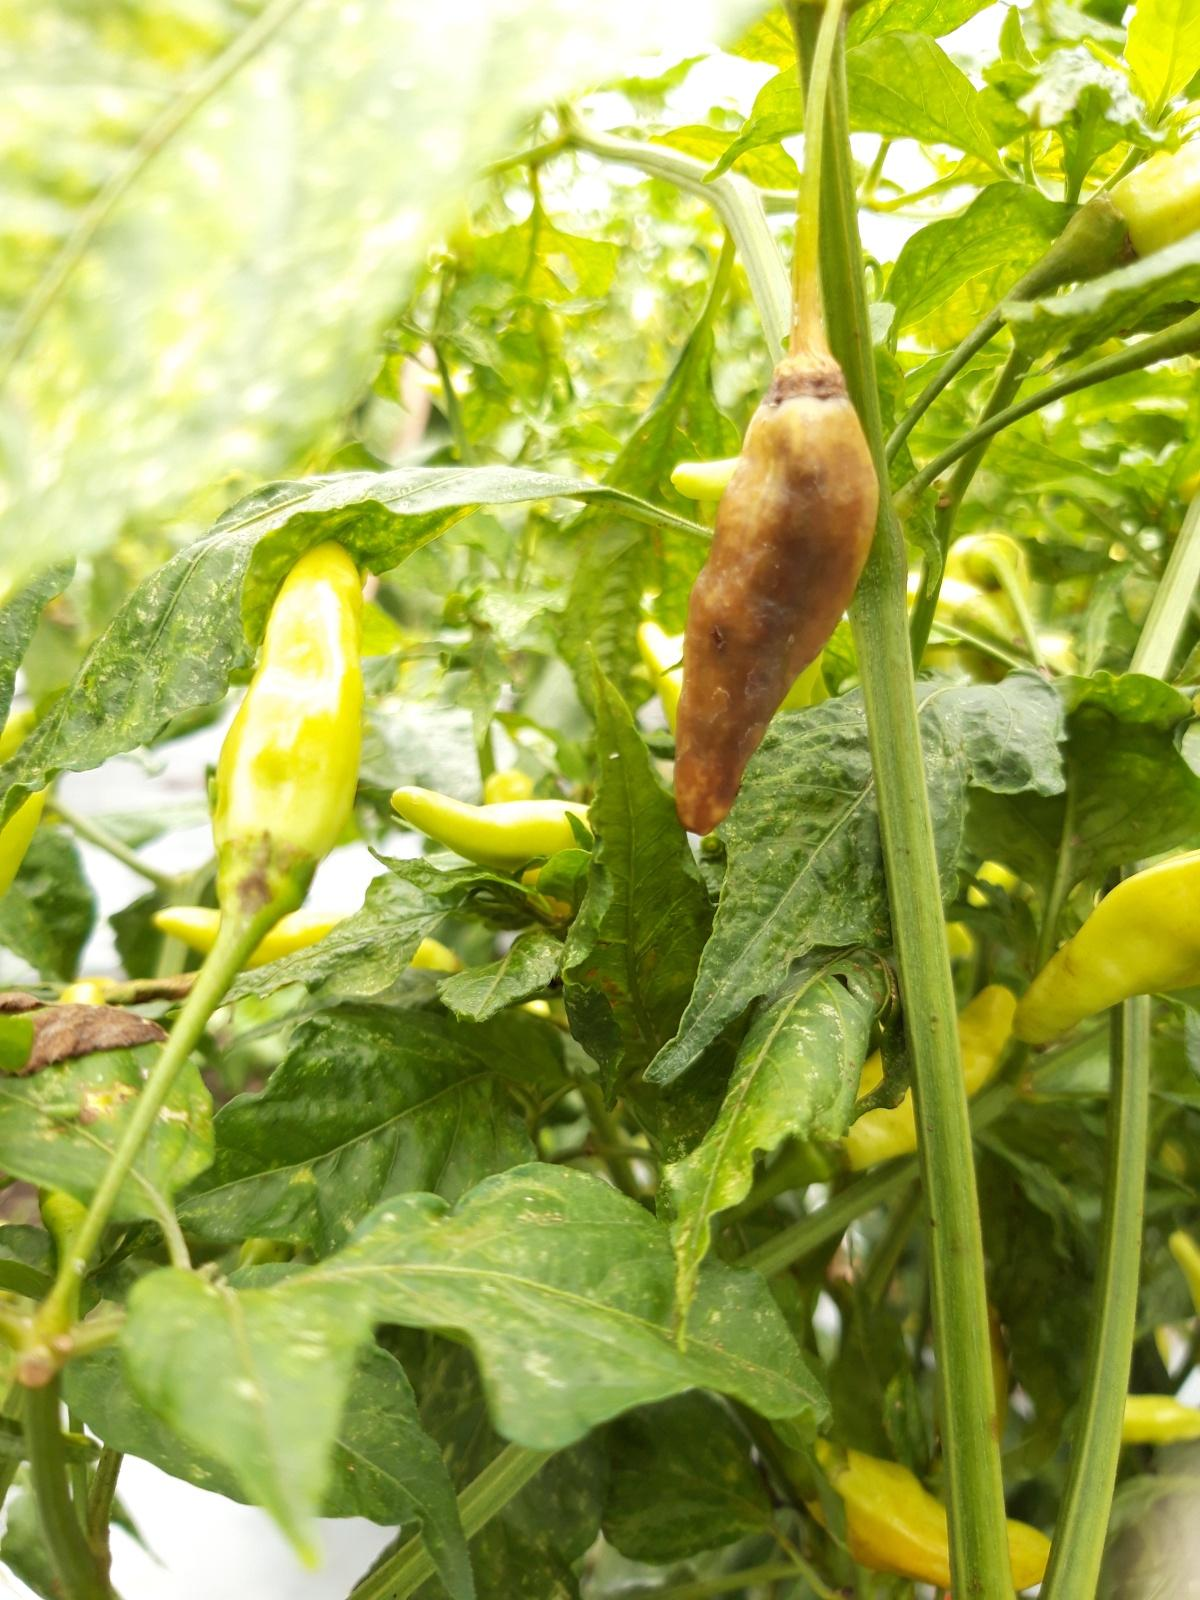cabai_normal: (208, 540, 366, 889), (1008, 848, 1200, 1058), (807, 1443, 1056, 1597), (395, 787, 587, 860)
lalat_buah: (671, 343, 880, 835)
